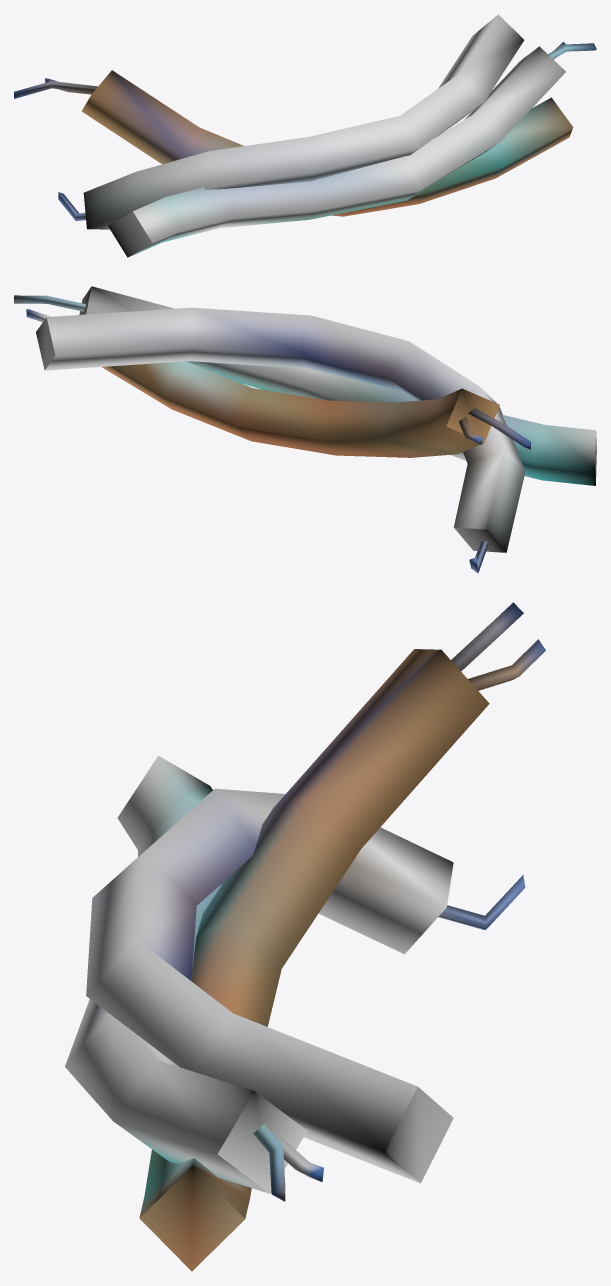
The model's file is enm_common_brk_009.fbx.
3 views of the same model, one above another, from view 1: azimuth 30°, elevation 25°; view 2: azimuth 150°, elevation 25°; view 3: azimuth 270°, elevation 25° (orthographic). The views are drawn at different scales.
Parts seen in each view (by area): view 1: enm_common_brk_009; view 2: enm_common_brk_009; view 3: enm_common_brk_009.
Boxes of the visible parts, box(x1,y1,x2,y2) form: enm_common_brk_009: box(14, 14, 596, 257); enm_common_brk_009: box(14, 286, 596, 573); enm_common_brk_009: box(65, 602, 545, 1271).
Bounding box in the file's own units: 0.4589 × 0.1829 × 0.1282.
